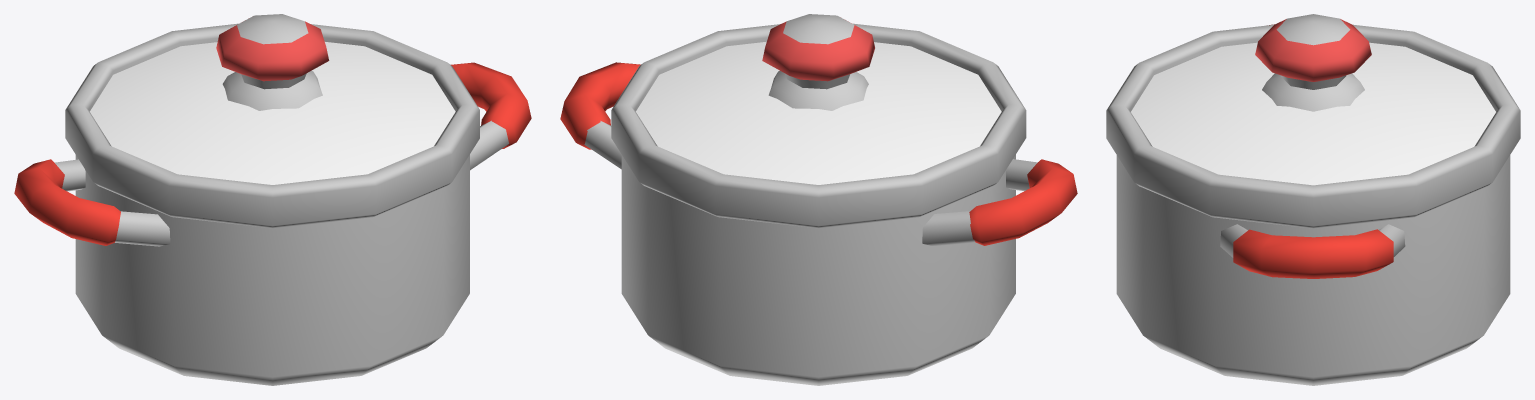
The model's file is prop_036.fbx.
3 views of the same model, side by side, from view 1: azimuth 30°, elevation 25°; view 2: azimuth 150°, elevation 25°; view 3: azimuth 270°, elevation 25° (orthographic).
Visible parts, largest first — view 1: prop_036; view 2: prop_036; view 3: prop_036.
Part boxes in pixels (box(x1,y1,x2,y2)): prop_036: box(14, 14, 531, 385); prop_036: box(560, 14, 1077, 385); prop_036: box(1106, 14, 1520, 385).
Size of the model in its own units: 45 by 33.24 by 25.61.
